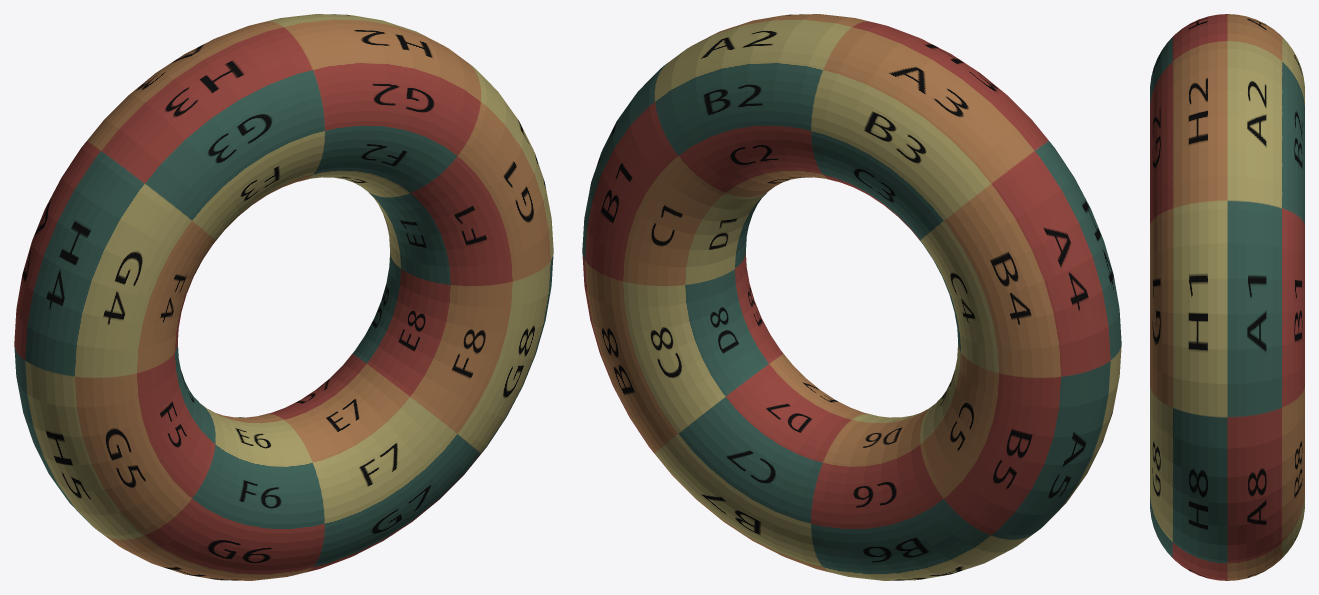
The model's file is texture_torus_R11_r17.glb.
3 renders of one model, left to right at view 1: azimuth 30°, elevation 25°; view 2: azimuth 150°, elevation 25°; view 3: azimuth 270°, elevation 25°, orthographic. The views are drawn at different scales.
Visible parts, largest first — view 1: world; view 2: world; view 3: world.
Part boxes in pixels (<box>): world: <box>14,14,553,580</box>; world: <box>582,14,1121,580</box>; world: <box>1150,14,1304,580</box>.
Size of the model in its own units: 23.87 by 23.82 by 6.52.
Materials: 1 (1 with a texture image).
